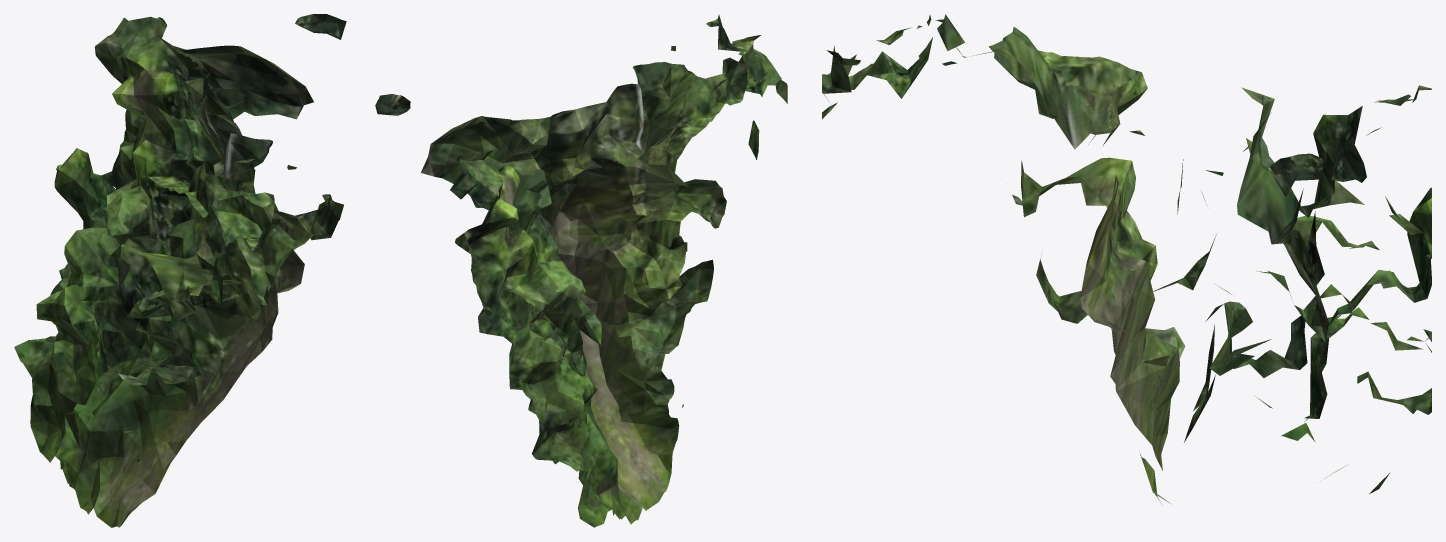
3 renders of one model, left to right at view 1: azimuth 30°, elevation 25°; view 2: azimuth 150°, elevation 25°; view 3: azimuth 270°, elevation 25°, orthographic. The views are drawn at different scales.
Size of the model in its own units: 16.66 by 24.28 by 26.11.
3 materials, 3 textured.
